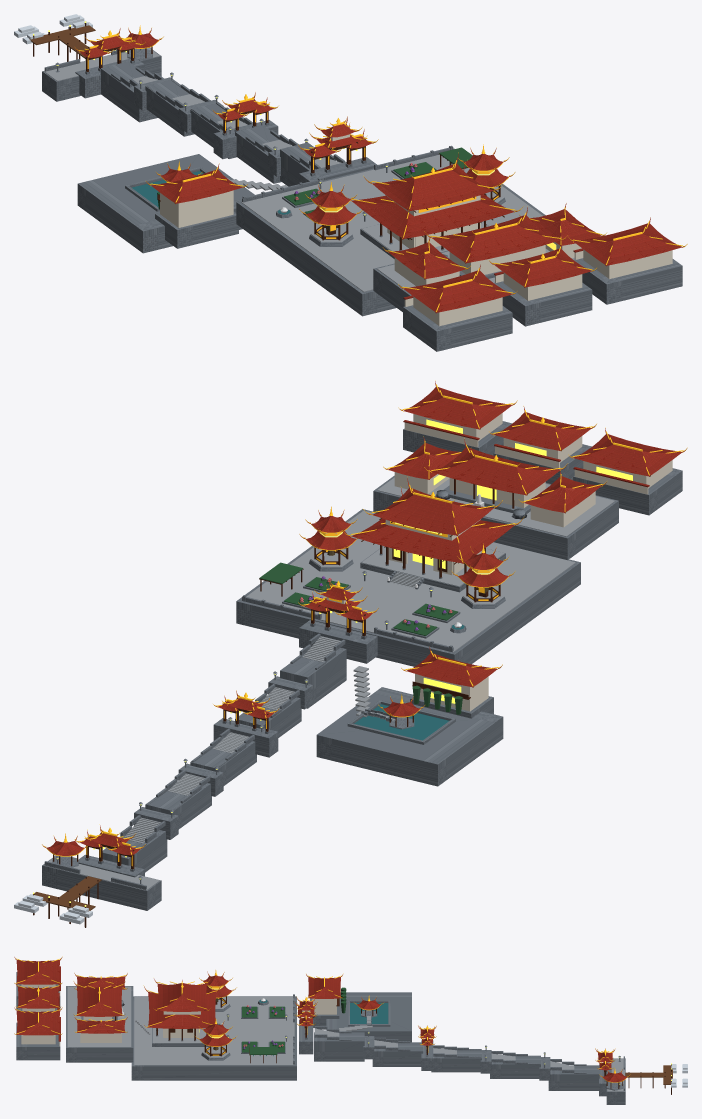
The model's file is tc_01_thien_vien_truc_lam_complex.glb.
The picture shows the model from 3 angles, top to bottom: view 1: azimuth 30°, elevation 25°; view 2: azimuth 150°, elevation 25°; view 3: azimuth 270°, elevation 25°; orthographic projection. The views are drawn at different scales.
Parts seen in each view (by area): view 1: Foundation_Skirt_And_Granite_Terraces, Tam_Quan_To_Duong_Noi_Vien_Roofs, Courtyards_And_140_Granite_Steps, Chanh_Dien_And_Towers_Curved_Roofs, Monastery_Cream_Lime_Walls, Gilded_Dao_Blades_Finials_And_Buddha, Ironwood_Columns_Doors_And_Rafters, Garden_Hedges_Bamboo_And_Pergola_Leaves, Tuyen_Lam_Lakeside_Timber_Pier, Tuyen_Lam_Moored_Sightseeing_Boats; view 2: Foundation_Skirt_And_Granite_Terraces, Courtyards_And_140_Granite_Steps, Tam_Quan_To_Duong_Noi_Vien_Roofs, Chanh_Dien_And_Towers_Curved_Roofs, Monastery_Cream_Lime_Walls, Gilded_Dao_Blades_Finials_And_Buddha, Ironwood_Columns_Doors_And_Rafters, Garden_Hedges_Bamboo_And_Pergola_Leaves, Night_2700K_Sanctum_And_Stone_Lanterns, Ho_Tinh_Tam_Tranquility_Pond_Water, Tuyen_Lam_Lakeside_Timber_Pier, Tuyen_Lam_Moored_Sightseeing_Boats; view 3: Foundation_Skirt_And_Granite_Terraces, Courtyards_And_140_Granite_Steps, Tam_Quan_To_Duong_Noi_Vien_Roofs, Chanh_Dien_And_Towers_Curved_Roofs, Monastery_Cream_Lime_Walls, Gilded_Dao_Blades_Finials_And_Buddha, Garden_Hedges_Bamboo_And_Pergola_Leaves, Ironwood_Columns_Doors_And_Rafters, Ho_Tinh_Tam_Tranquility_Pond_Water, Tuyen_Lam_Lakeside_Timber_Pier.
Boxes of the visible parts, x1=… form: Foundation_Skirt_And_Granite_Terraces: x1=42, y1=47, x2=682, y2=351; Tam_Quan_To_Duong_Noi_Vien_Roofs: x1=75, y1=28, x2=683, y2=313; Courtyards_And_140_Granite_Steps: x1=44, y1=48, x2=574, y2=291; Chanh_Dien_And_Towers_Curved_Roofs: x1=299, y1=148, x2=519, y2=239; Monastery_Cream_Lime_Walls: x1=102, y1=49, x2=672, y2=326; Gilded_Dao_Blades_Finials_And_Buddha: x1=75, y1=25, x2=687, y2=311; Ironwood_Columns_Doors_And_Rafters: x1=33, y1=23, x2=504, y2=249; Garden_Hedges_Bamboo_And_Pergola_Leaves: x1=157, y1=147, x2=472, y2=213; Tuyen_Lam_Lakeside_Timber_Pier: x1=29, y1=25, x2=95, y2=58; Tuyen_Lam_Moored_Sightseeing_Boats: x1=14, y1=14, x2=92, y2=44; Foundation_Skirt_And_Granite_Terraces: x1=42, y1=421, x2=682, y2=910; Courtyards_And_140_Granite_Steps: x1=44, y1=477, x2=614, y2=890; Tam_Quan_To_Duong_Noi_Vien_Roofs: x1=43, y1=381, x2=686, y2=855; Chanh_Dien_And_Towers_Curved_Roofs: x1=301, y1=478, x2=523, y2=586; Monastery_Cream_Lime_Walls: x1=320, y1=413, x2=672, y2=711; Gilded_Dao_Blades_Finials_And_Buddha: x1=42, y1=380, x2=687, y2=866; Ironwood_Columns_Doors_And_Rafters: x1=33, y1=479, x2=514, y2=927; Garden_Hedges_Bamboo_And_Pergola_Leaves: x1=259, y1=562, x2=462, y2=714; Night_2700K_Sanctum_And_Stone_Lanterns: x1=33, y1=419, x2=632, y2=906; Ho_Tinh_Tam_Tranquility_Pond_Water: x1=354, y1=625, x2=464, y2=740; Tuyen_Lam_Lakeside_Timber_Pier: x1=34, y1=876, x2=101, y2=911; Tuyen_Lam_Moored_Sightseeing_Boats: x1=14, y1=894, x2=92, y2=924; Foundation_Skirt_And_Granite_Terraces: x1=16, y1=972, x2=625, y2=1104; Courtyards_And_140_Granite_Steps: x1=67, y1=986, x2=624, y2=1091; Tam_Quan_To_Duong_Noi_Vien_Roofs: x1=14, y1=957, x2=628, y2=1082; Chanh_Dien_And_Towers_Curved_Roofs: x1=144, y1=972, x2=235, y2=1046; Monastery_Cream_Lime_Walls: x1=21, y1=984, x2=336, y2=1046; Gilded_Dao_Blades_Finials_And_Buddha: x1=14, y1=956, x2=630, y2=1082; Garden_Hedges_Bamboo_And_Pergola_Leaves: x1=242, y1=987, x2=346, y2=1054; Ironwood_Columns_Doors_And_Rafters: x1=115, y1=996, x2=671, y2=1094; Ho_Tinh_Tam_Tranquility_Pond_Water: x1=259, y1=1000, x2=388, y2=1023; Tuyen_Lam_Lakeside_Timber_Pier: x1=625, y1=1065, x2=672, y2=1084.
Bounding box in the file's own units: 75.74 × 37.5 × 220.
Materials: 16 (2 with a texture image).
